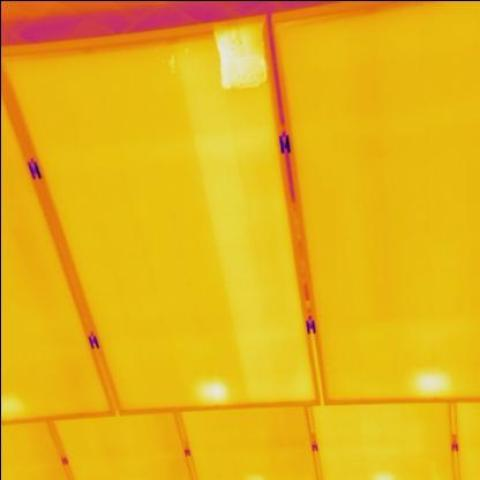fault: (216, 24, 261, 84), (196, 380, 236, 403), (414, 372, 450, 394)
